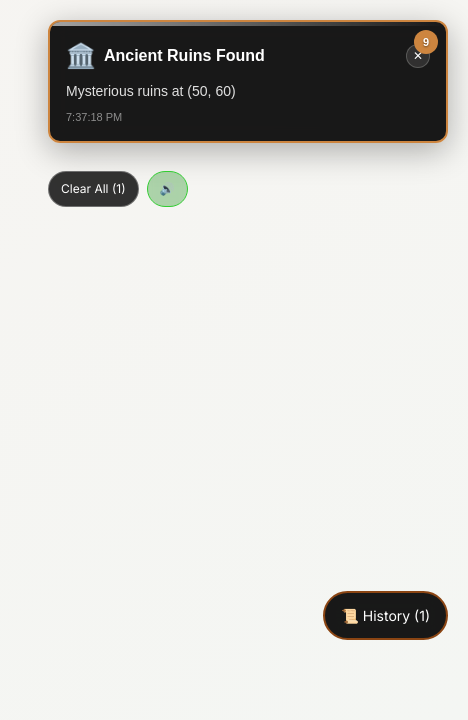
it: DiscoveryNotifications › should show/hide discovery history
Check: the heading "Ancient Ruins Found" is shown, box [104,47,265,64]
Click the button "📜 History (1)". click: (386,616)
box: [323,591,448,640]
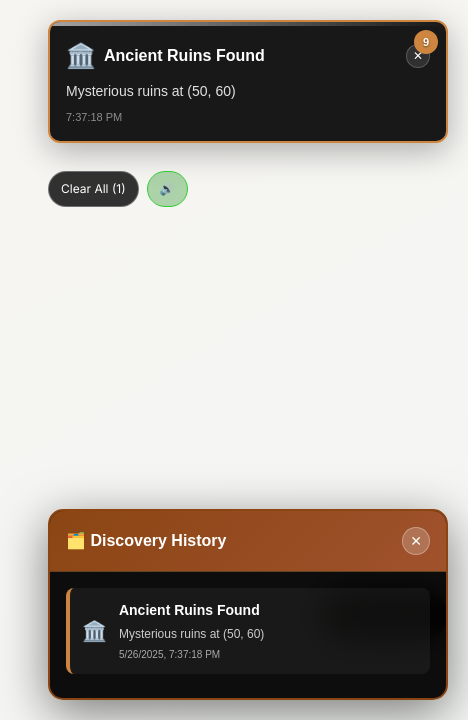
Check: the heading "🗂️ Discovery History" is shown, box [66,529,226,553]
